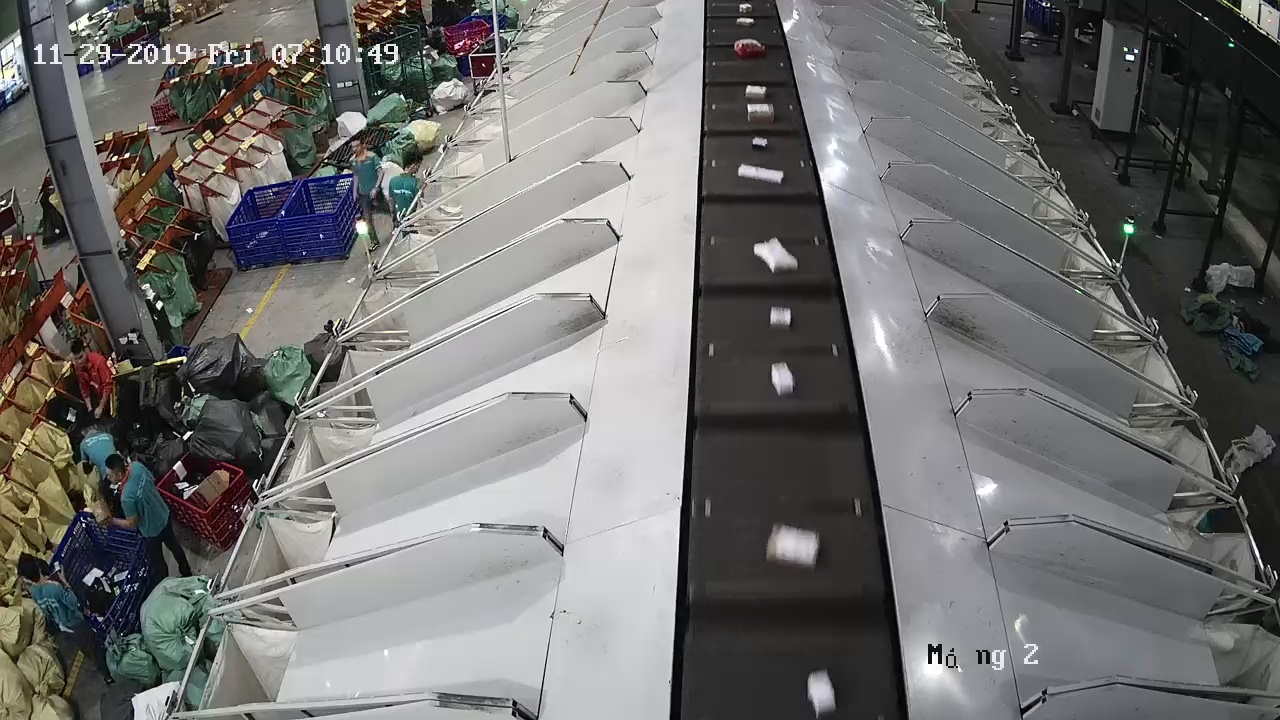parcel: (765, 523, 820, 572), (753, 237, 799, 275), (806, 668, 836, 716), (737, 163, 785, 185), (771, 361, 794, 397), (747, 103, 775, 123), (769, 306, 792, 330), (752, 136, 768, 149)
